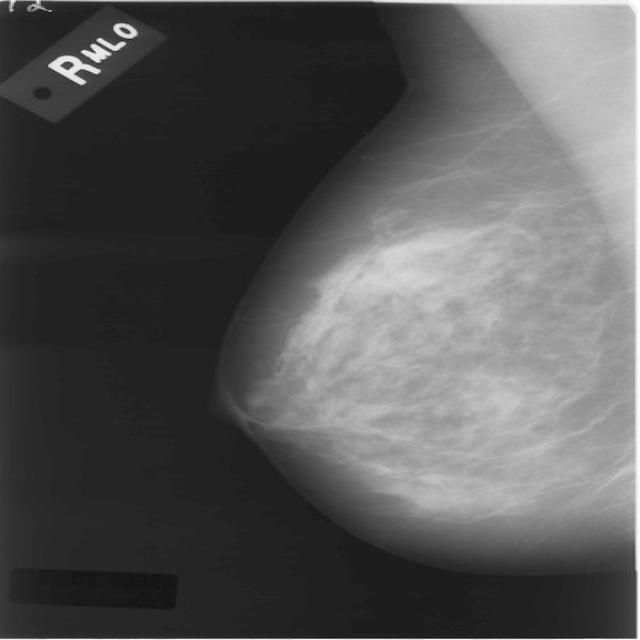tumour: (353, 226, 484, 291)
